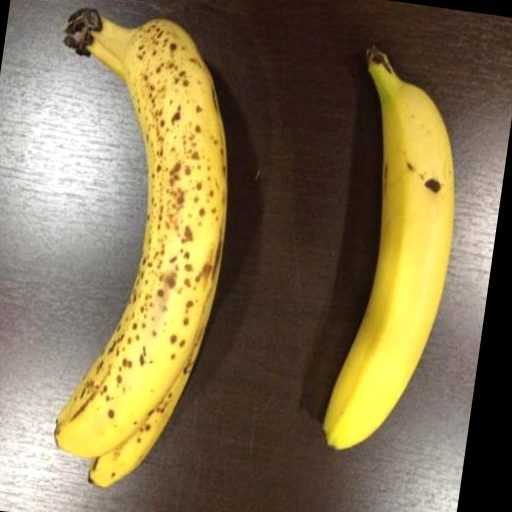fruit: (55, 9, 226, 484), (323, 48, 453, 448)
